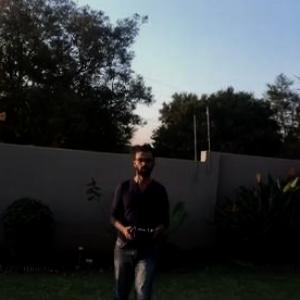follow: (97, 139, 176, 299)
